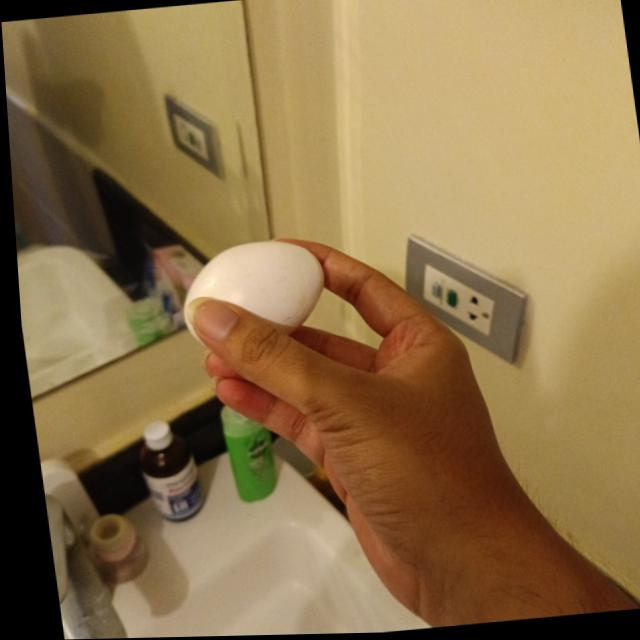egg: (172, 237, 327, 352)
